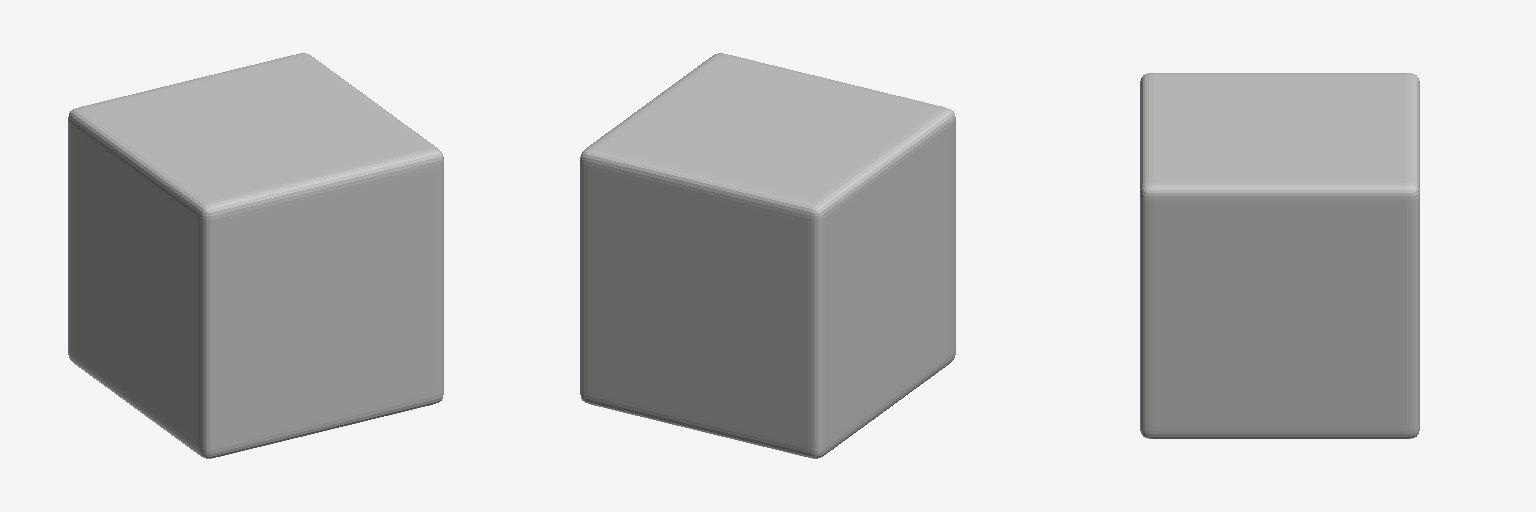
File: icecube2.obj
The picture shows the model from 3 angles: view 1: azimuth 30°, elevation 25°; view 2: azimuth 150°, elevation 25°; view 3: azimuth 270°, elevation 25°; orthographic projection.
Parts seen in each view (by area): view 1: Cube; view 2: Cube; view 3: Cube.
Boxes of the visible parts, x1=… form: Cube: x1=68, y1=53, x2=443, y2=458; Cube: x1=580, y1=53, x2=955, y2=458; Cube: x1=1140, y1=73, x2=1419, y2=438.
Bounding box in the file's own units: 1 × 1 × 1.